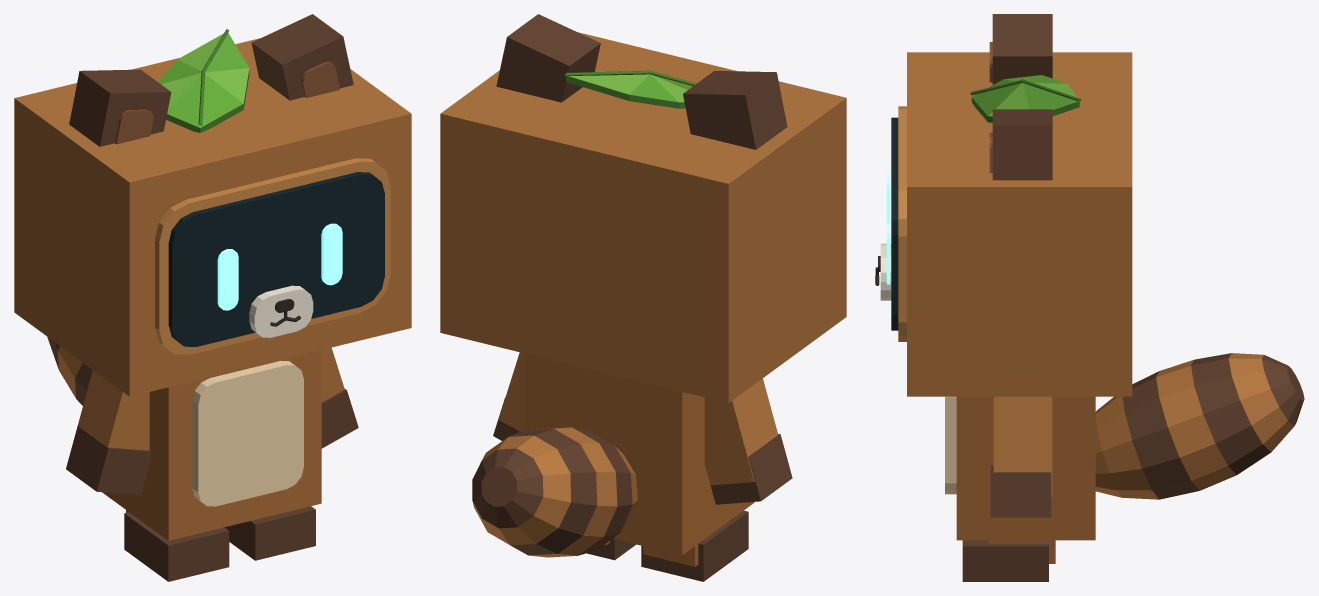
File: tanuki_brown_v2.glb
3 renders of one model, left to right at view 1: azimuth 30°, elevation 25°; view 2: azimuth 150°, elevation 25°; view 3: azimuth 270°, elevation 25°, orthographic. The views are drawn at different scales.
Visible parts, largest first — view 1: Head_頭, Face_黒い顔面, Belly_ベージュのお腹, Body_胴体, FaceRim_顔の縁, Leaf_葉っぱ, Ear_耳_L, Ear_耳_R, Foot_足先_L, Arm_腕_L, Hand_手先_L, Foot_足先_R (+8 smaller); view 2: Head_頭, Body_胴体, Tail_尻尾, Ear_耳_L, Ear_耳_R, Arm_腕_L, Foot_足先_L, Hand_手先_L, Leaf_葉っぱ, Arm_腕_R, Leg_脚_L, LeafVein_葉の折り目 (+1 smaller); view 3: Head_頭, Tail_尻尾, Body_胴体, Arm_腕_R, Ear_耳_R, Ear_耳_L, Foot_足先_R, Leaf_葉っぱ, Hand_手先_R, FaceRim_顔の縁, Face_黒い顔面, Belly_ベージュのお腹 (+1 smaller).
Part boxes in pixels (x1,y1,x2,y2): Head_頭: [14, 38, 411, 396]; Face_黒い顔面: [168, 172, 384, 346]; Belly_ベージュのお腹: [192, 360, 303, 506]; Body_胴体: [102, 350, 321, 540]; FaceRim_顔の縁: [155, 158, 390, 354]; Leaf_葉っぱ: [158, 33, 249, 132]; Ear_耳_L: [69, 69, 171, 146]; Ear_耳_R: [251, 14, 353, 100]; Foot_足先_L: [124, 512, 229, 581]; Arm_腕_L: [78, 370, 149, 450]; Hand_手先_L: [66, 426, 150, 494]; Foot_足先_R: [225, 506, 315, 560]; Head_頭: [440, 32, 846, 403]; Body_胴体: [525, 353, 754, 555]; Tail_尻尾: [472, 427, 637, 557]; Ear_耳_L: [683, 71, 787, 149]; Ear_耳_R: [496, 14, 600, 102]; Arm_腕_L: [704, 378, 778, 485]; Foot_足先_L: [641, 510, 748, 581]; Hand_手先_L: [710, 434, 792, 504]; Leaf_葉っぱ: [566, 74, 691, 108]; Arm_腕_R: [498, 352, 525, 431]; Leg_脚_L: [643, 544, 698, 566]; LeafVein_葉の折り目: [565, 70, 696, 85]; Head_頭: [907, 52, 1132, 396]; Tail_尻尾: [1095, 353, 1304, 499]; Body_胴体: [956, 396, 1095, 540]; Arm_腕_R: [993, 396, 1052, 497]; Ear_耳_R: [992, 109, 1052, 180]; Ear_耳_L: [992, 14, 1052, 84]; Foot_足先_R: [962, 540, 1048, 581]; Leaf_葉っぱ: [971, 75, 1079, 122]; Hand_手先_R: [990, 465, 1051, 517]; FaceRim_顔の縁: [898, 106, 906, 341]; Face_黒い顔面: [891, 117, 898, 330]; Belly_ベージュのお腹: [945, 396, 956, 494].
Size of what is drawn, in the model's own units: 1.95 by 3.22 by 2.63.
